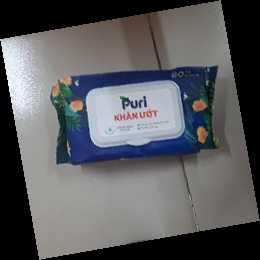Puri Xanh: (47, 64, 222, 158)
